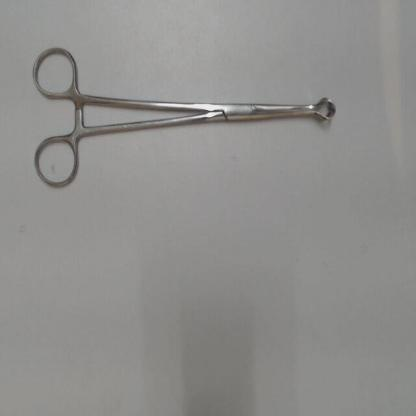8 Babcock Tissue Forceps: (28, 40, 340, 193)
